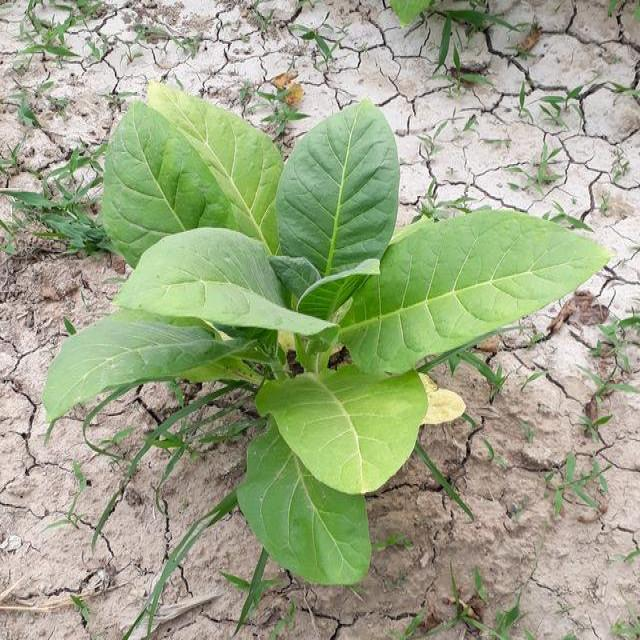crop: (46, 87, 616, 588)
